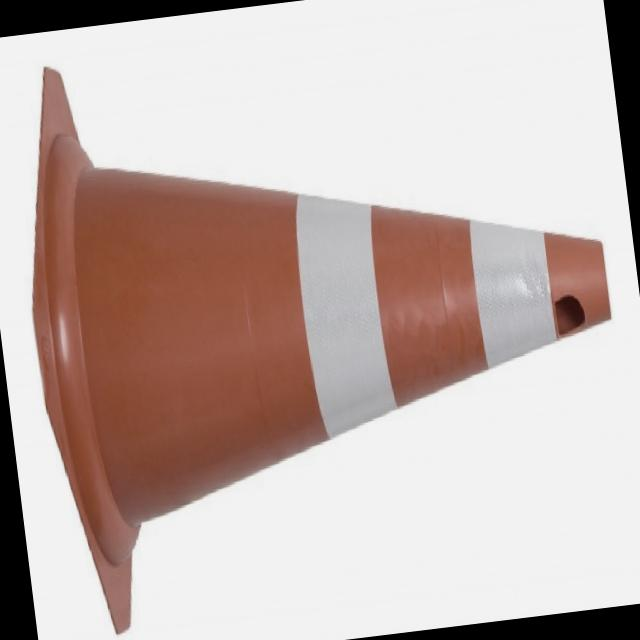cone: (0, 18, 640, 619)
